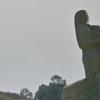Statue: (65, 7, 100, 76)
